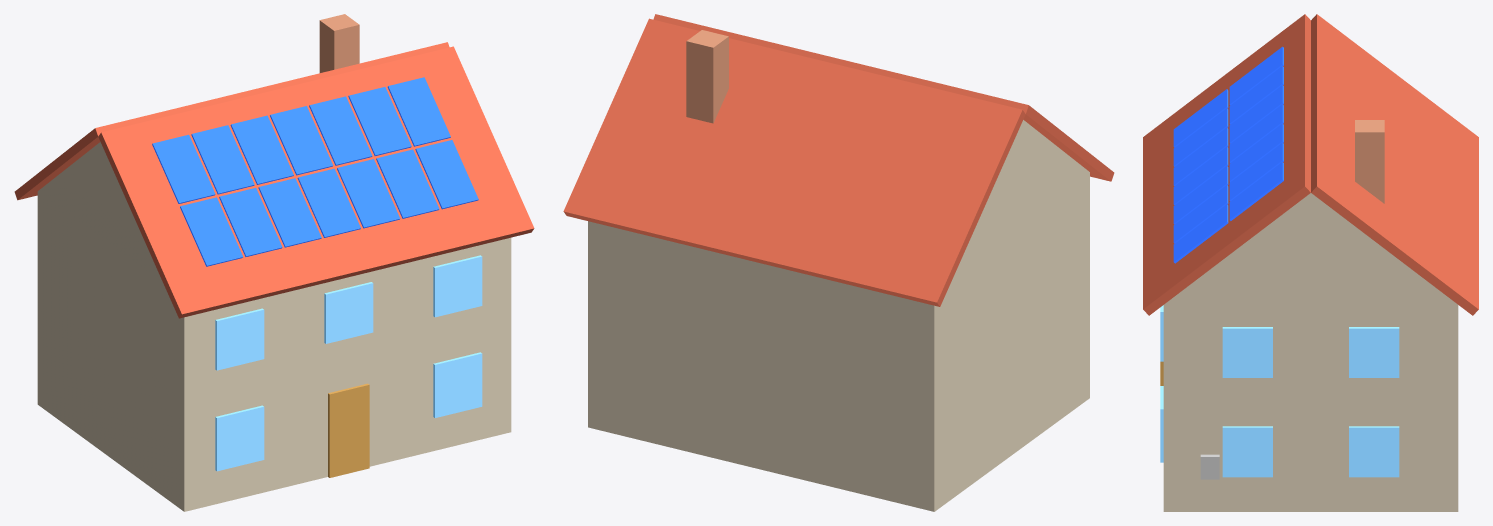
The model's file is house-pv.glb.
3 renders of one model, left to right at view 1: azimuth 30°, elevation 25°; view 2: azimuth 150°, elevation 25°; view 3: azimuth 270°, elevation 25°, orthographic. The views are drawn at different scales.
Parts seen in each view (by area): view 1: walls, roof_front, pv_panel (×14), window (×5), gable, roof_back, door, chimney; view 2: walls, roof_back, gable, roof_front, chimney; view 3: walls, roof_back, roof_front, pv_panel (×14), gable, window (×4), chimney, meter_box.
Boxes of the visible parts, x1=… form: walls: x1=37, y1=192, x2=511, y2=511; roof_front: x1=98, y1=46, x2=534, y2=318; pv_panel (×14): x1=152, y1=77, x2=478, y2=266; window (×5): x1=215, y1=255, x2=482, y2=471; gable: x1=38, y1=142, x2=162, y2=282; roof_back: x1=14, y1=42, x2=449, y2=200; door: x1=328, y1=383, x2=369, y2=477; chimney: x1=319, y1=14, x2=359, y2=72; walls: x1=588, y1=172, x2=1089, y2=511; roof_back: x1=563, y1=18, x2=1025, y2=306; gable: x1=957, y1=120, x2=1089, y2=269; roof_front: x1=653, y1=14, x2=1114, y2=181; chimney: x1=686, y1=30, x2=728, y2=123; walls: x1=1163, y1=298, x2=1458, y2=511; roof_back: x1=1311, y1=14, x2=1478, y2=315; roof_front: x1=1143, y1=14, x2=1310, y2=315; pv_panel (×14): x1=1173, y1=46, x2=1283, y2=263; gable: x1=1172, y1=193, x2=1449, y2=298; window (×4): x1=1222, y1=327, x2=1399, y2=477; chimney: x1=1355, y1=120, x2=1384, y2=203; meter_box: x1=1200, y1=454, x2=1219, y2=479.
Bounding box in the file's own units: 9.7 × 9.24 × 7.98.
